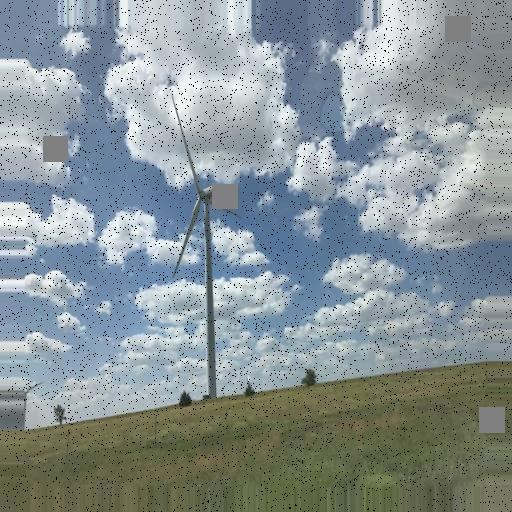wind turbine: (172, 88, 242, 397)
